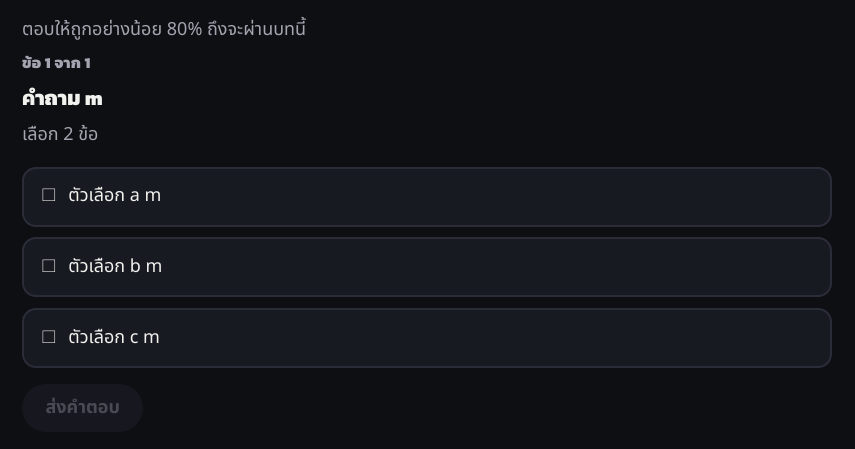
Scenario: QuizView › เลือกหลายข้อ: บอก "เลือก 2 ข้อ" และปุ่มส่งกดไม่ได้จนเลือกครบ
The width and height of the screenshot is (855, 449).
Check: the text "เลือก 2 ข้อ" is shown, box 22,121 -> 98,148
Check: the button "ส่งคำตอบ" is disabled, box 22,384 -> 143,432
Click the button "☐ ตัวเลือก a m" at point(115, 196), box 22,167 -> 832,227
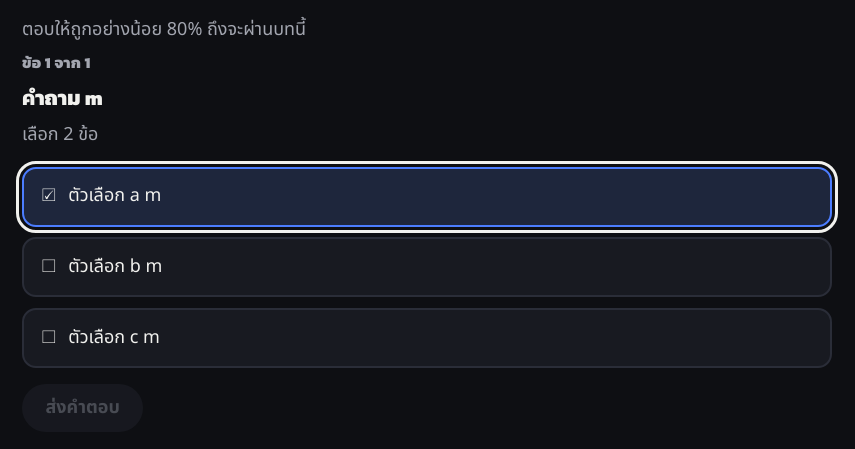
Check: the button "ส่งคำตอบ" is disabled, box 22,384 -> 143,432
Click the button "☐ ตัวเลือก c m" at point(114, 337), box 22,308 -> 832,368
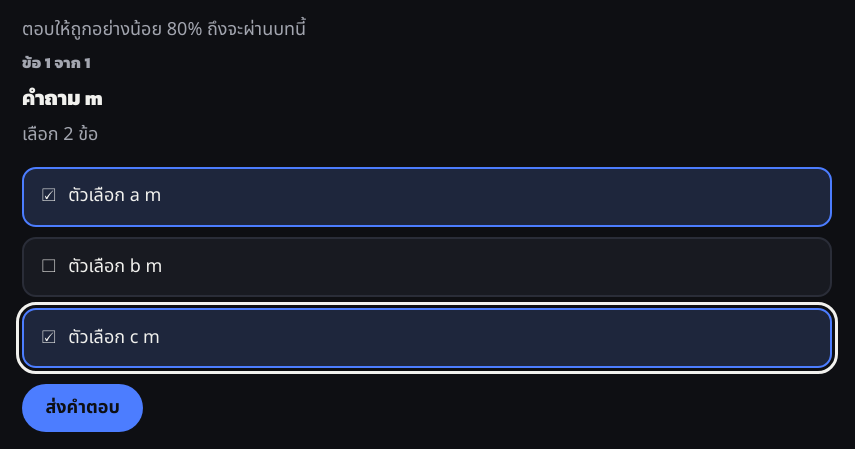
Check: the button "ส่งคำตอบ" is enabled, box 22,384 -> 143,432
